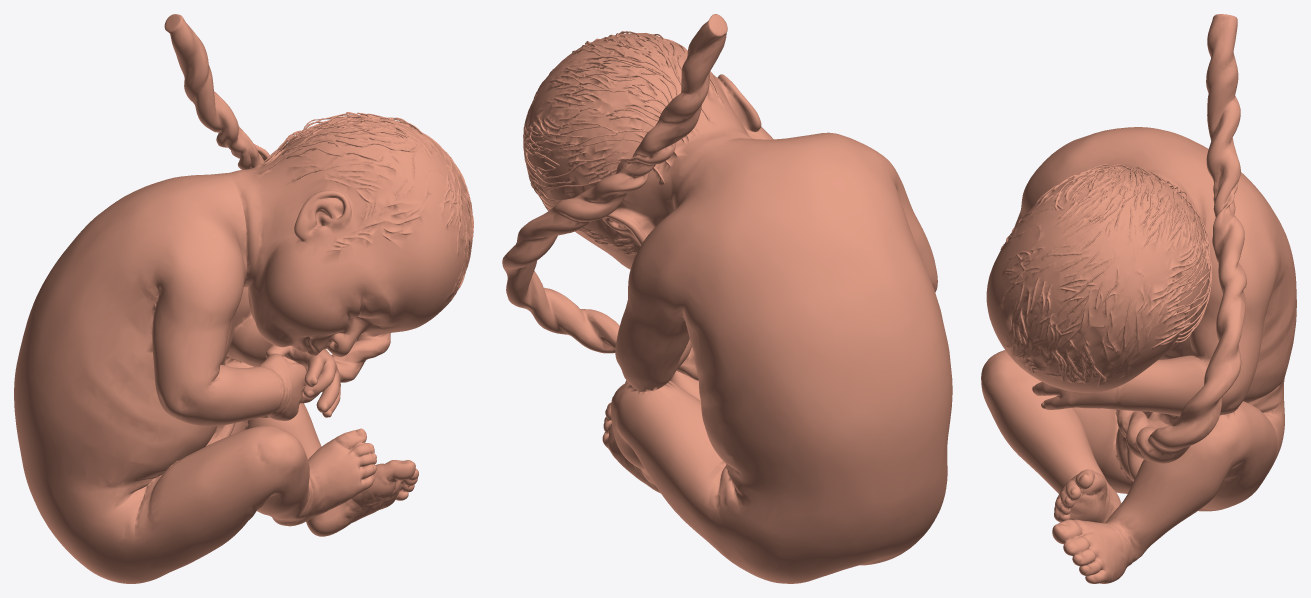
The model's file is semaine-42.glb.
The picture shows the model from 3 angles, left to right: view 1: azimuth 30°, elevation 25°; view 2: azimuth 150°, elevation 25°; view 3: azimuth 270°, elevation 25°; orthographic projection. The views are drawn at different scales.
Bounding box in the file's own units: 1.57 × 1.9 × 1.04.
